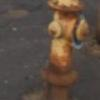a fire hydrant: (41, 0, 91, 82)
